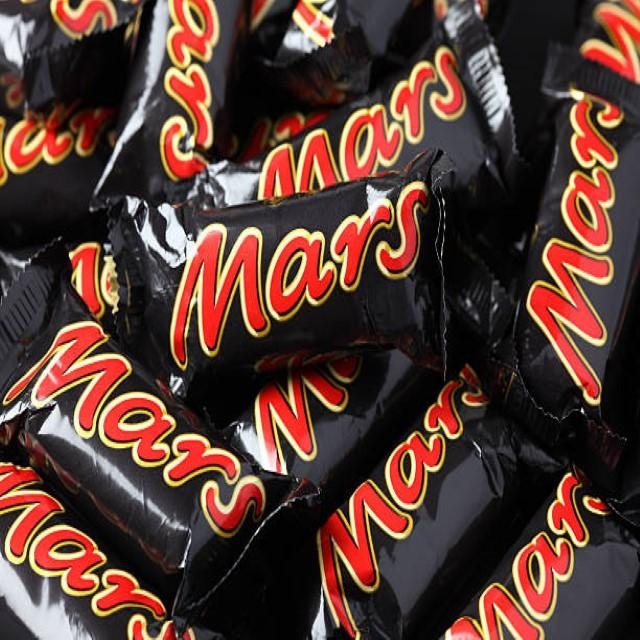mars_chocolate: (63, 0, 248, 313), (40, 340, 257, 563), (520, 35, 640, 425), (345, 340, 508, 617), (160, 205, 440, 355), (257, 18, 463, 192), (540, 446, 640, 640)
